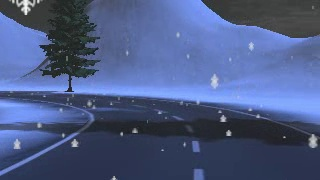Lane: (1, 93, 320, 180)
